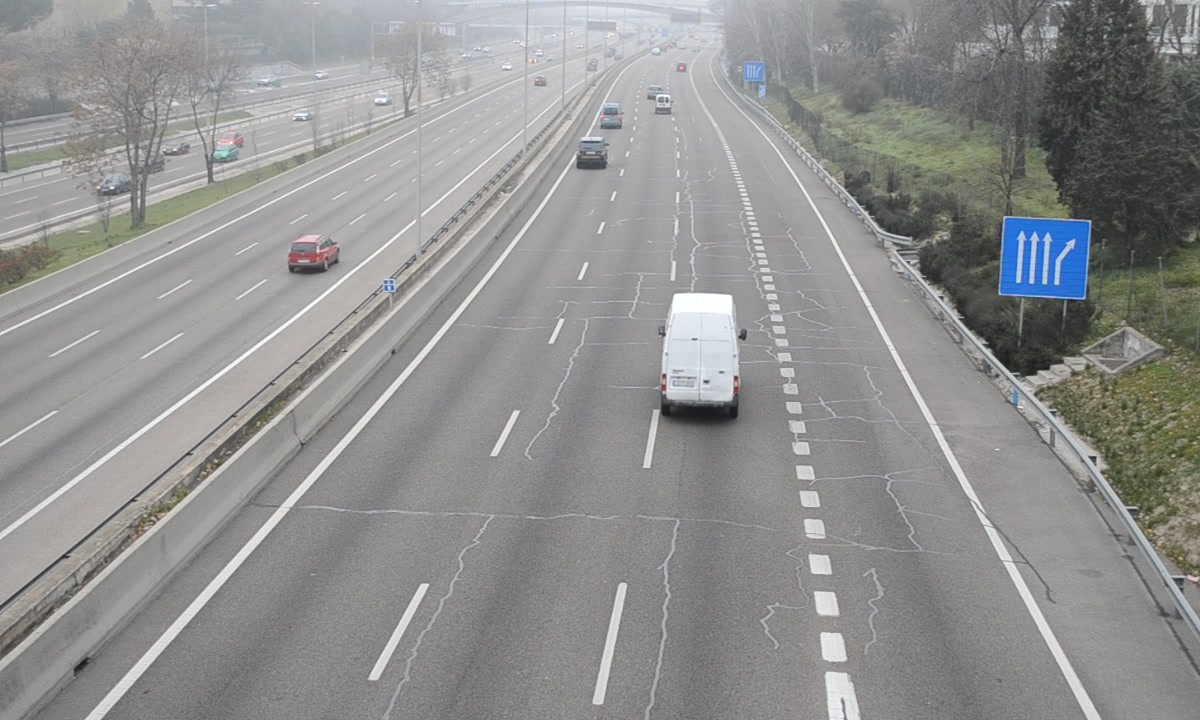car: (575, 137, 608, 171)
van: (659, 294, 742, 417), (600, 101, 622, 127)
